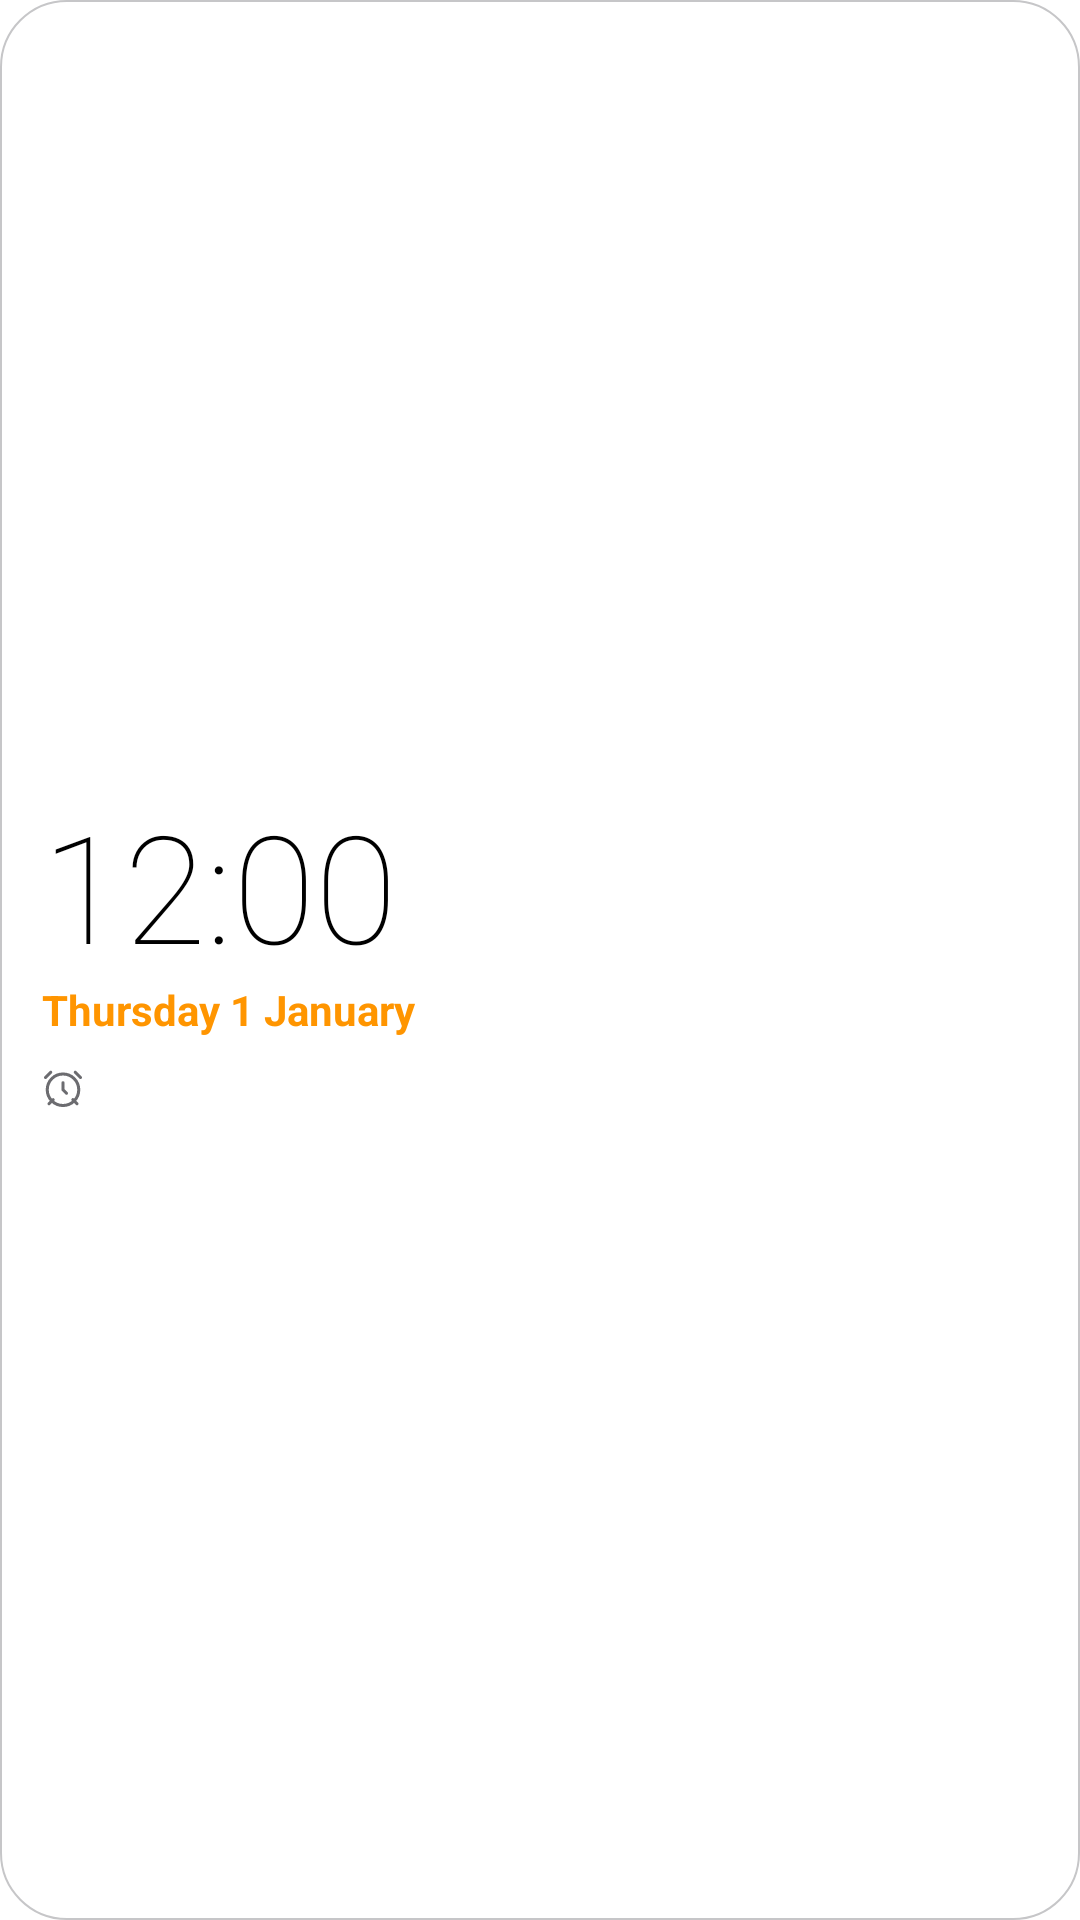

Icons on this 1080w x 1920h Android screen, each with the point to tap as point (x, y):
alarm: point (63, 1088)
